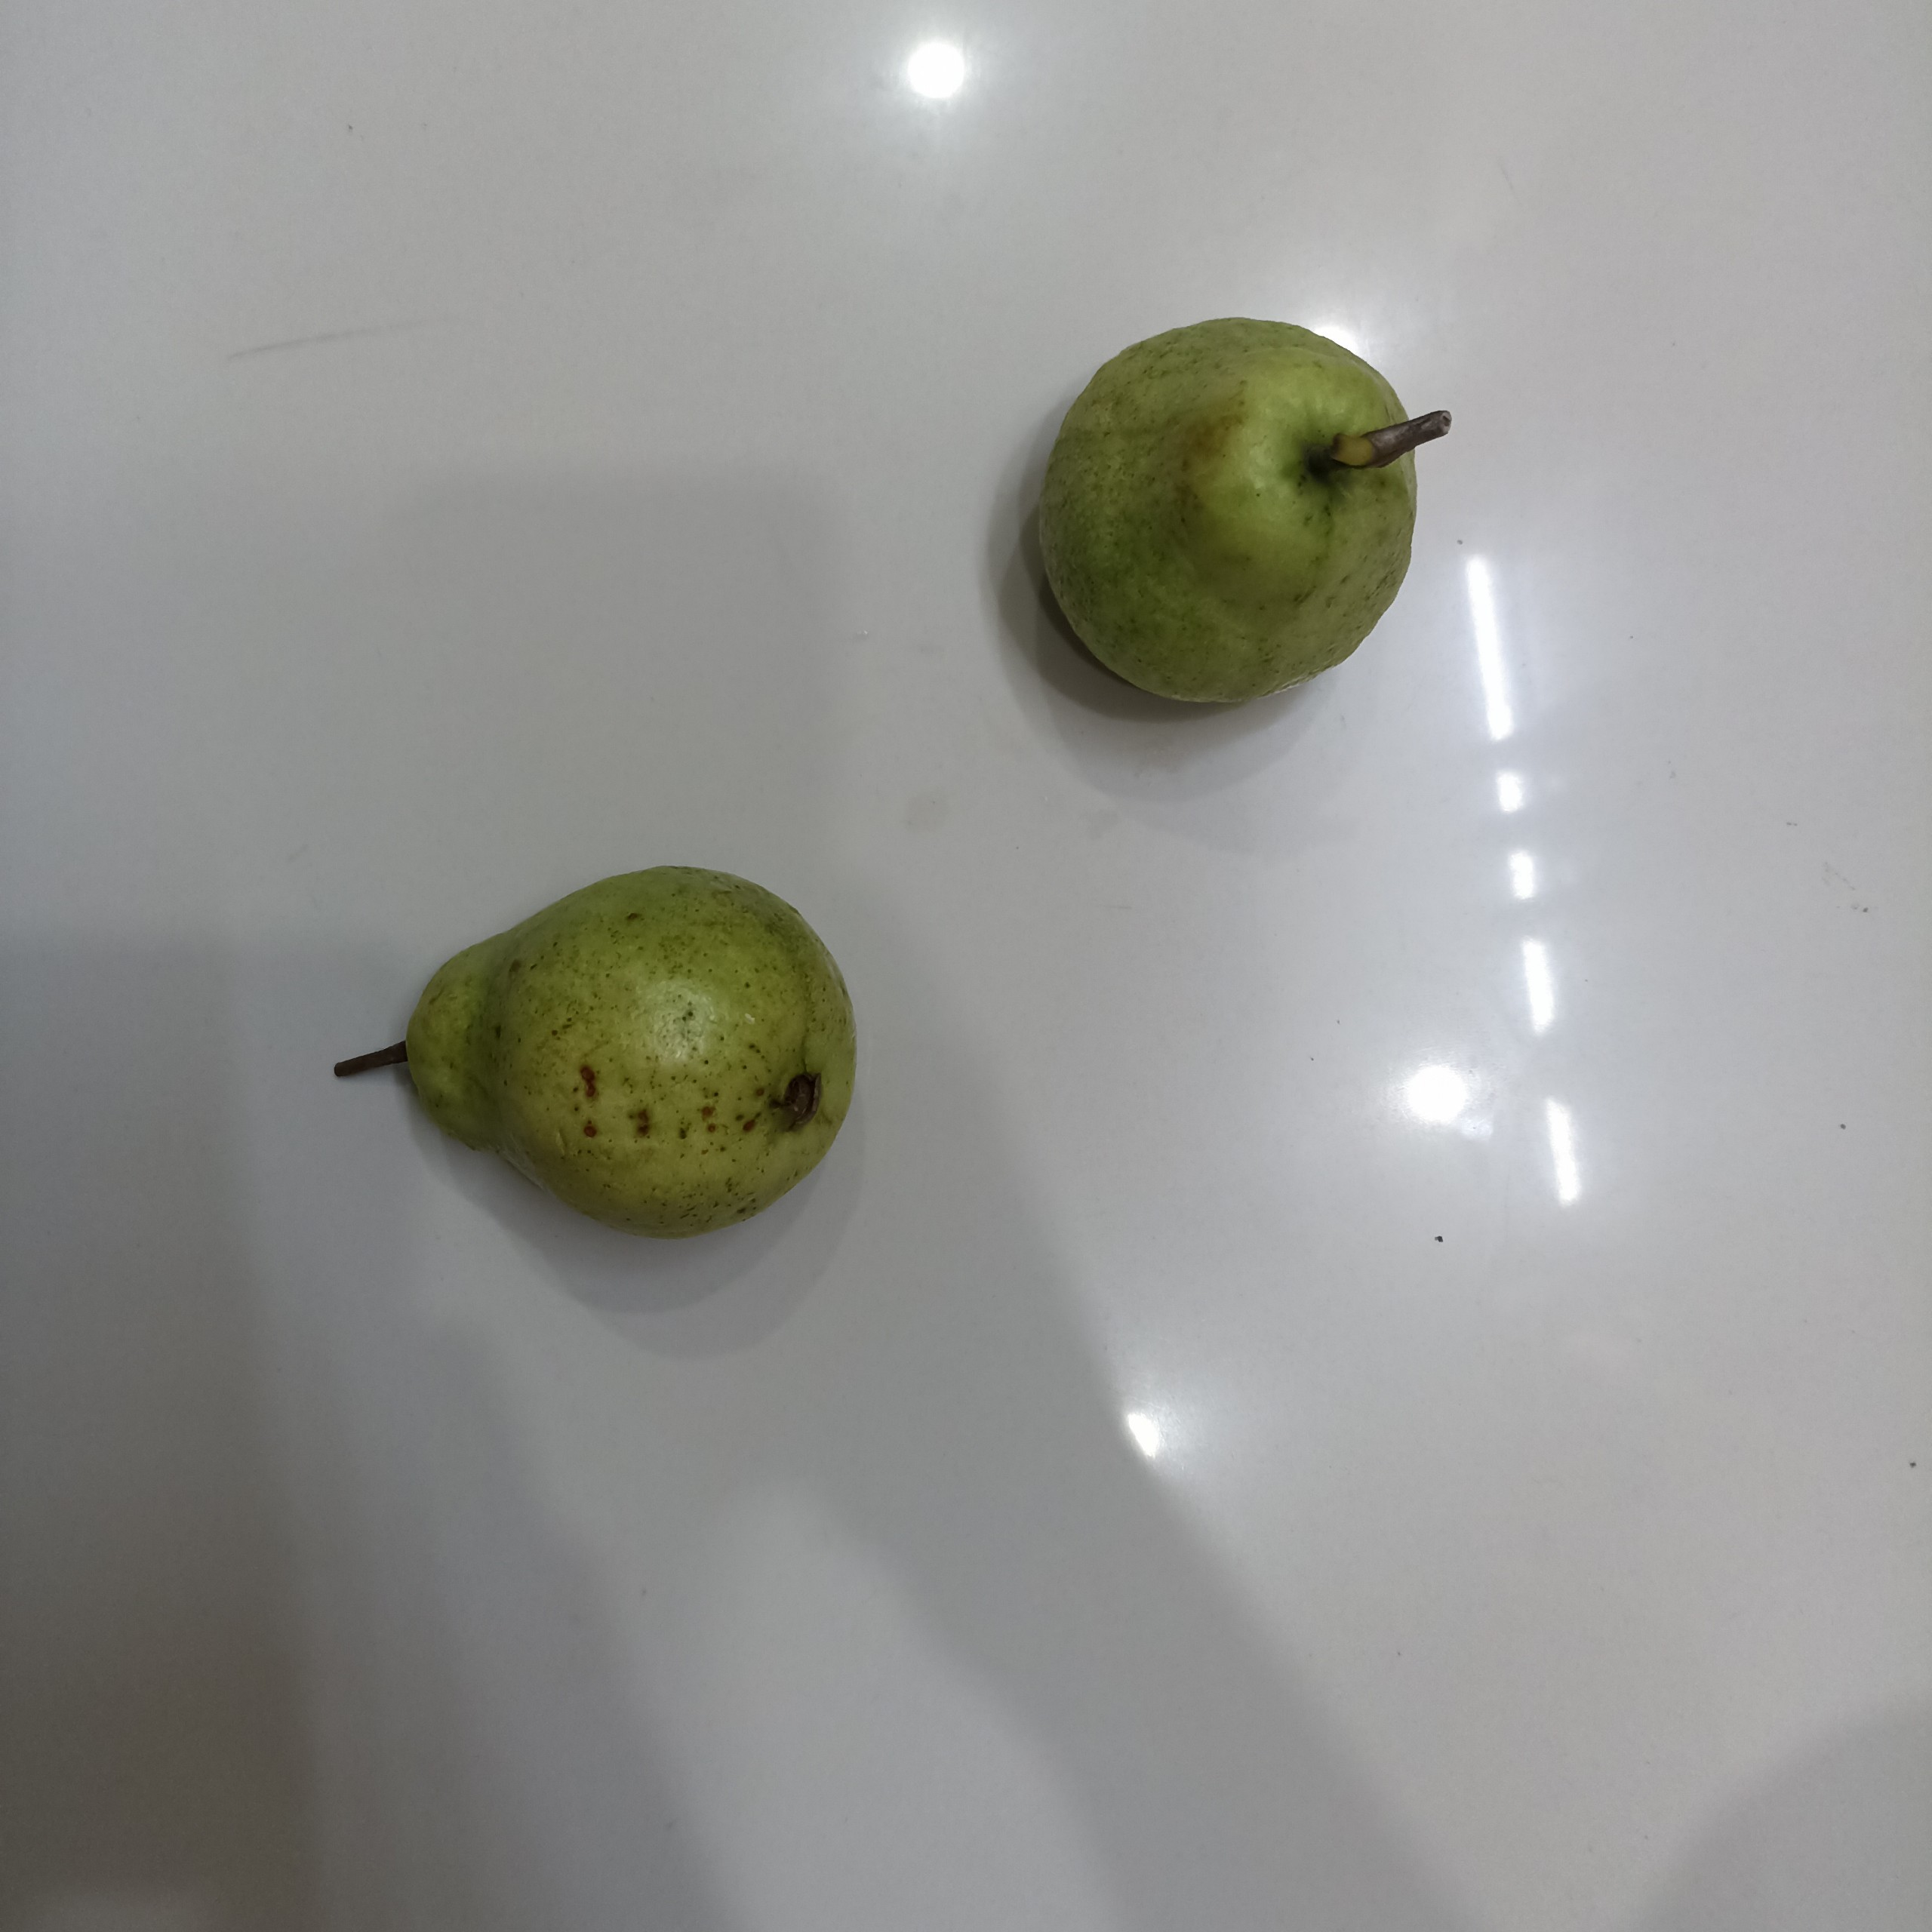Oi: (403, 863, 853, 1233), (1037, 317, 1419, 720)
